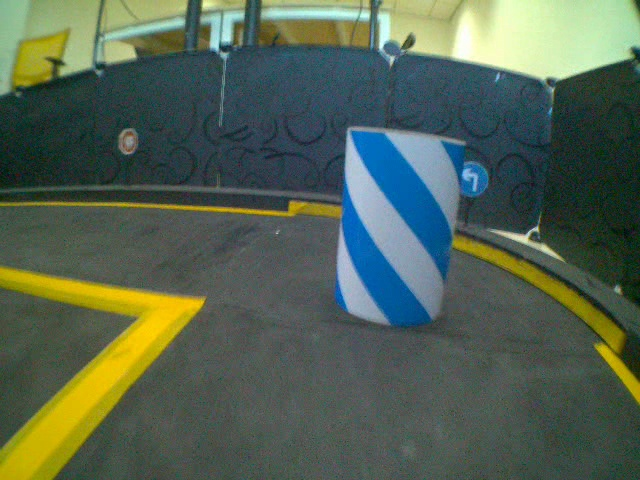bucket: (343, 122, 450, 328)
